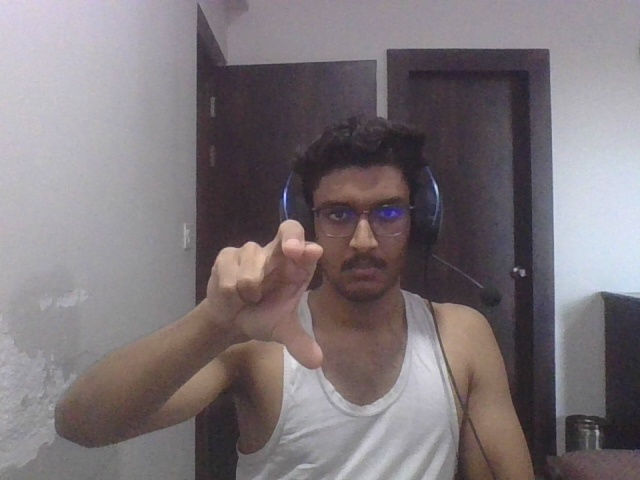No: (190, 222, 344, 368)
